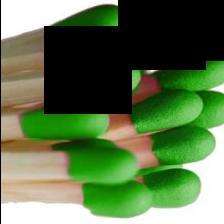green: (45, 5, 130, 66), (54, 59, 140, 101), (128, 90, 202, 134), (20, 104, 108, 139), (152, 54, 224, 90), (150, 126, 214, 166), (82, 181, 151, 218), (66, 149, 136, 184), (143, 169, 199, 208), (120, 25, 164, 72), (187, 91, 224, 129)
